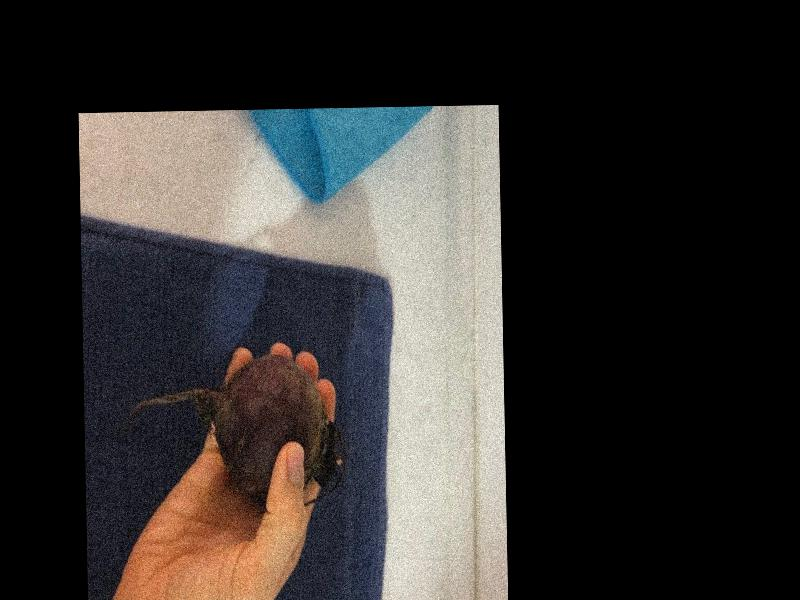Beet: (127, 354, 345, 510)
